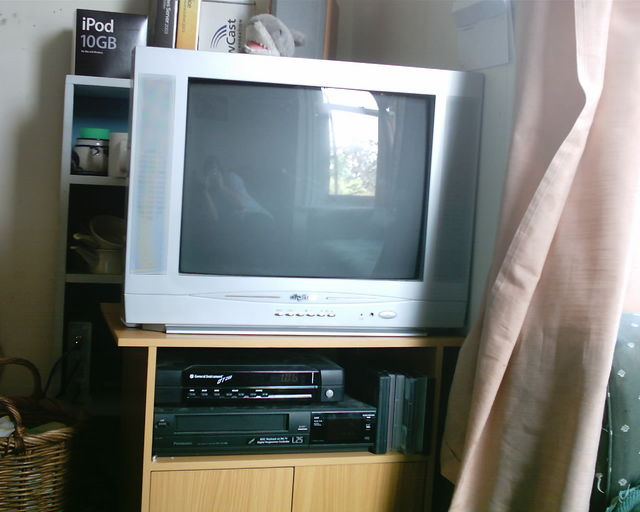tv monitor: (126, 47, 473, 352)
